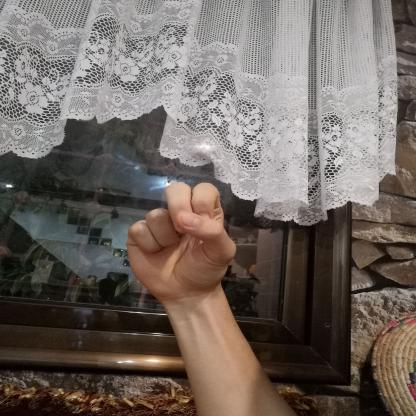QAAF: (110, 173, 248, 310)
